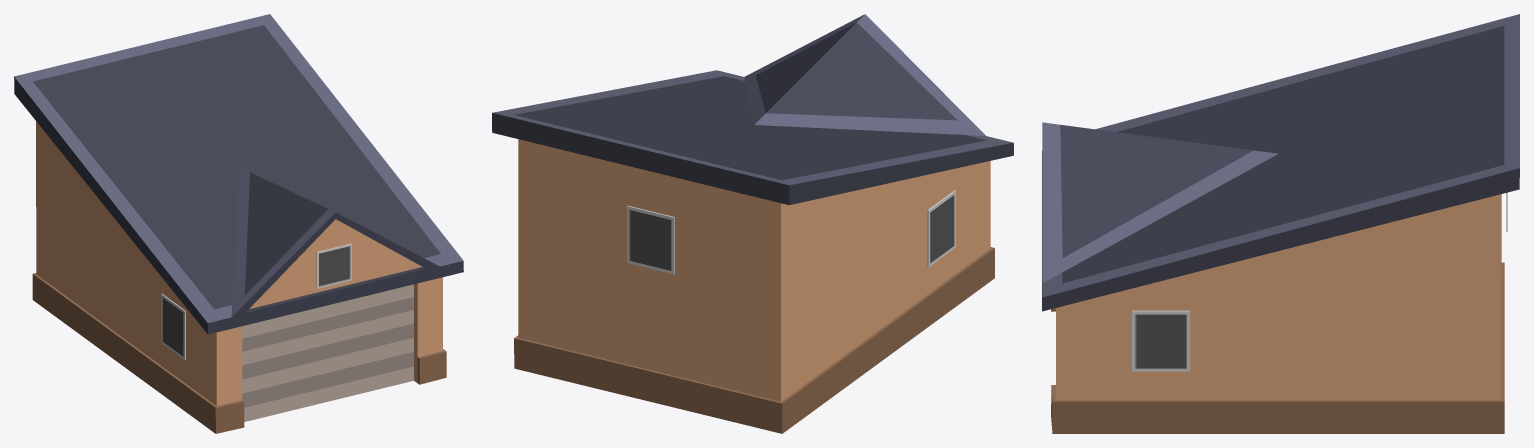
Rendered from garage02_color03.fbx.
3 renders of one model, left to right at view 1: azimuth 30°, elevation 25°; view 2: azimuth 150°, elevation 25°; view 3: azimuth 270°, elevation 25°, orthographic. The views are drawn at different scales.
Parts seen in each view (by area): view 1: garage02_color03; view 2: garage02_color03; view 3: garage02_color03.
Part boxes in pixels (x1,y1,x2,y2): garage02_color03: [14, 14, 463, 433]; garage02_color03: [492, 14, 1013, 433]; garage02_color03: [1042, 14, 1519, 433].
Bounding box in the file's own units: 847 × 701 × 1110.
